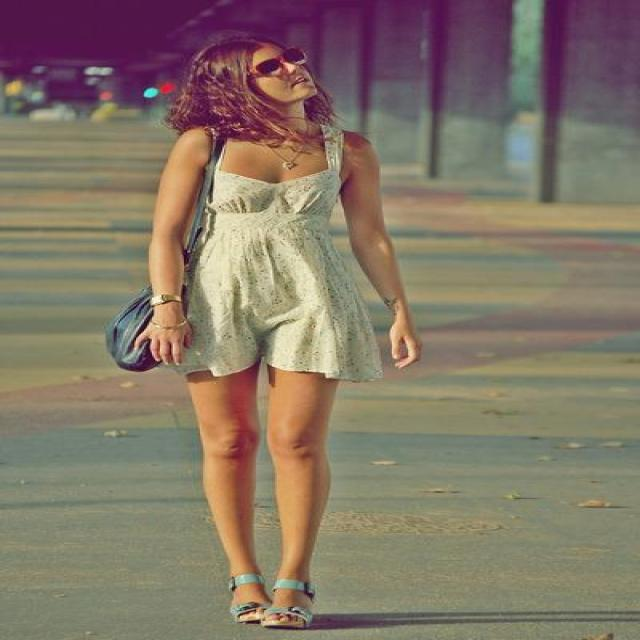bag: (83, 294, 171, 372)
dress: (162, 130, 387, 385)
shoe: (230, 561, 314, 625)
sunglass: (238, 43, 284, 68)
